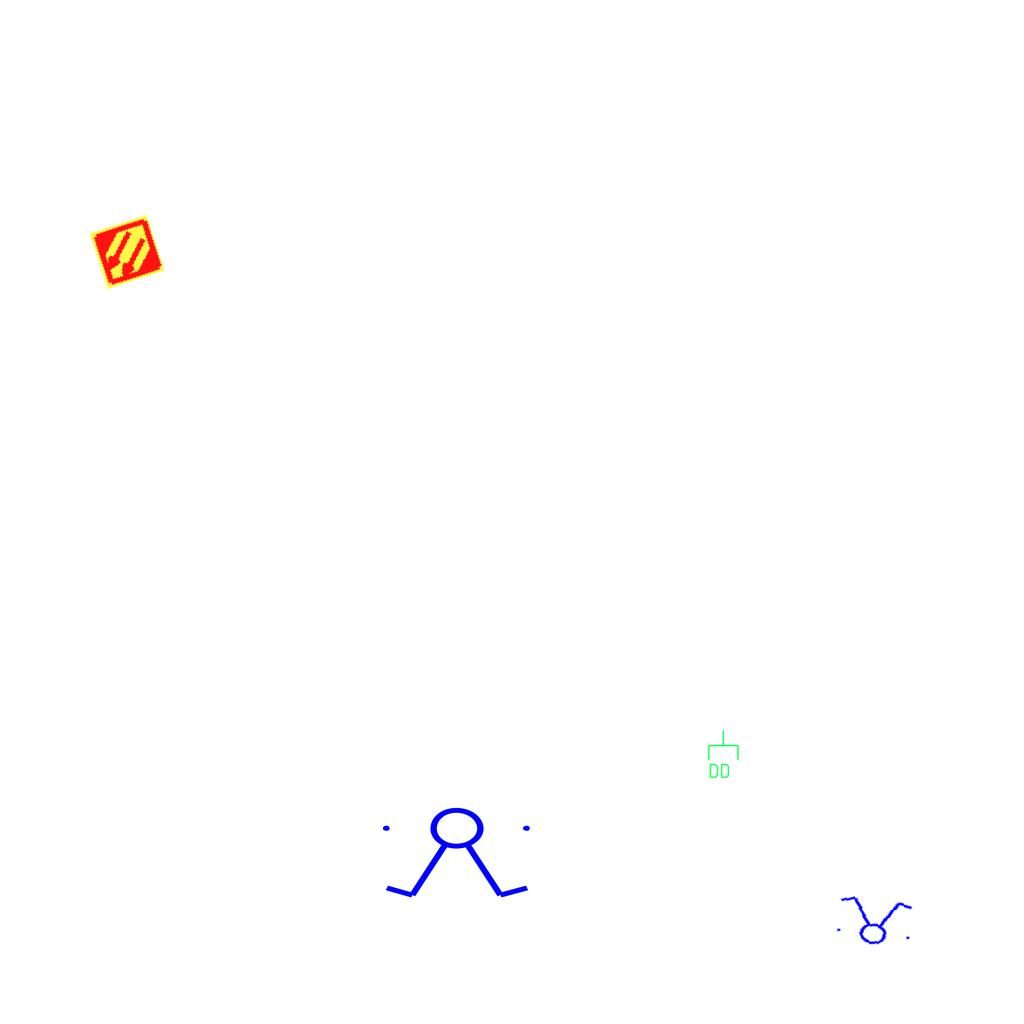ASR_Ansaugrauchmelder: (87, 212, 167, 292)
Datenanschluss_zweifach: (706, 729, 740, 780)
Serienschalter: (374, 806, 542, 902), (829, 892, 919, 950)
